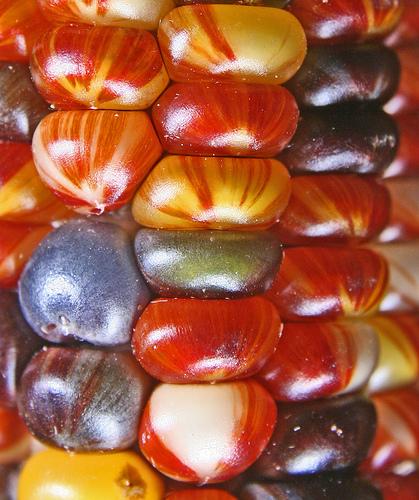corn: (0, 0, 417, 498)
